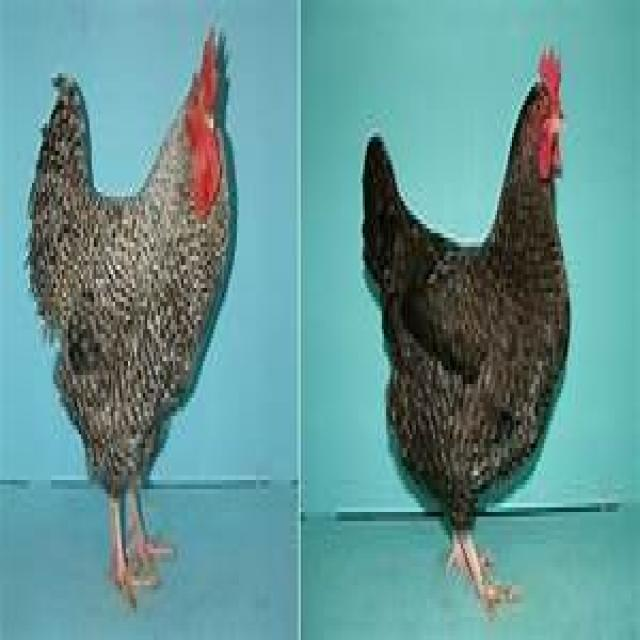chicken: (29, 37, 233, 604), (362, 51, 568, 597)
